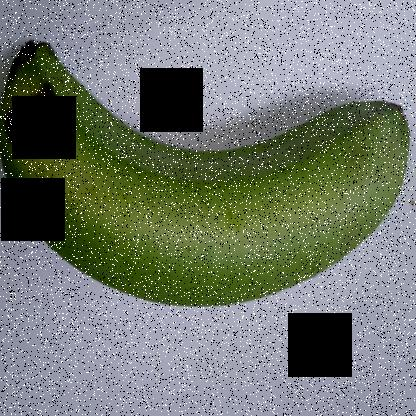freshunripe: (1, 25, 415, 321)
